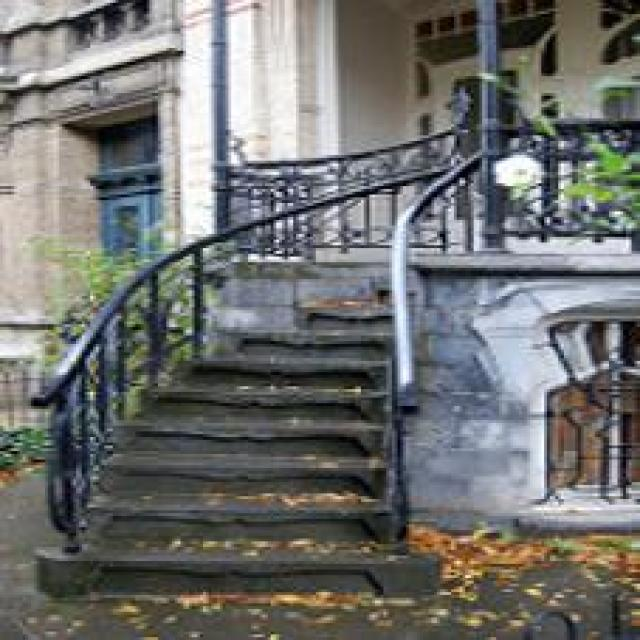upstair: (60, 311, 424, 568)
